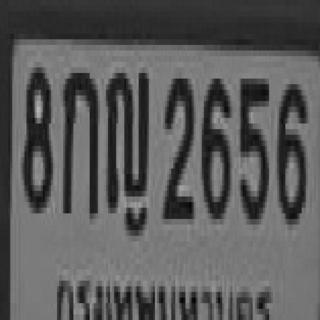A01: (61, 67, 96, 213)
A13: (104, 64, 147, 210)
N02: (161, 70, 192, 216)
N05: (238, 73, 267, 219)
N06: (275, 79, 304, 219), (200, 73, 228, 213)
N08: (21, 62, 51, 208)
